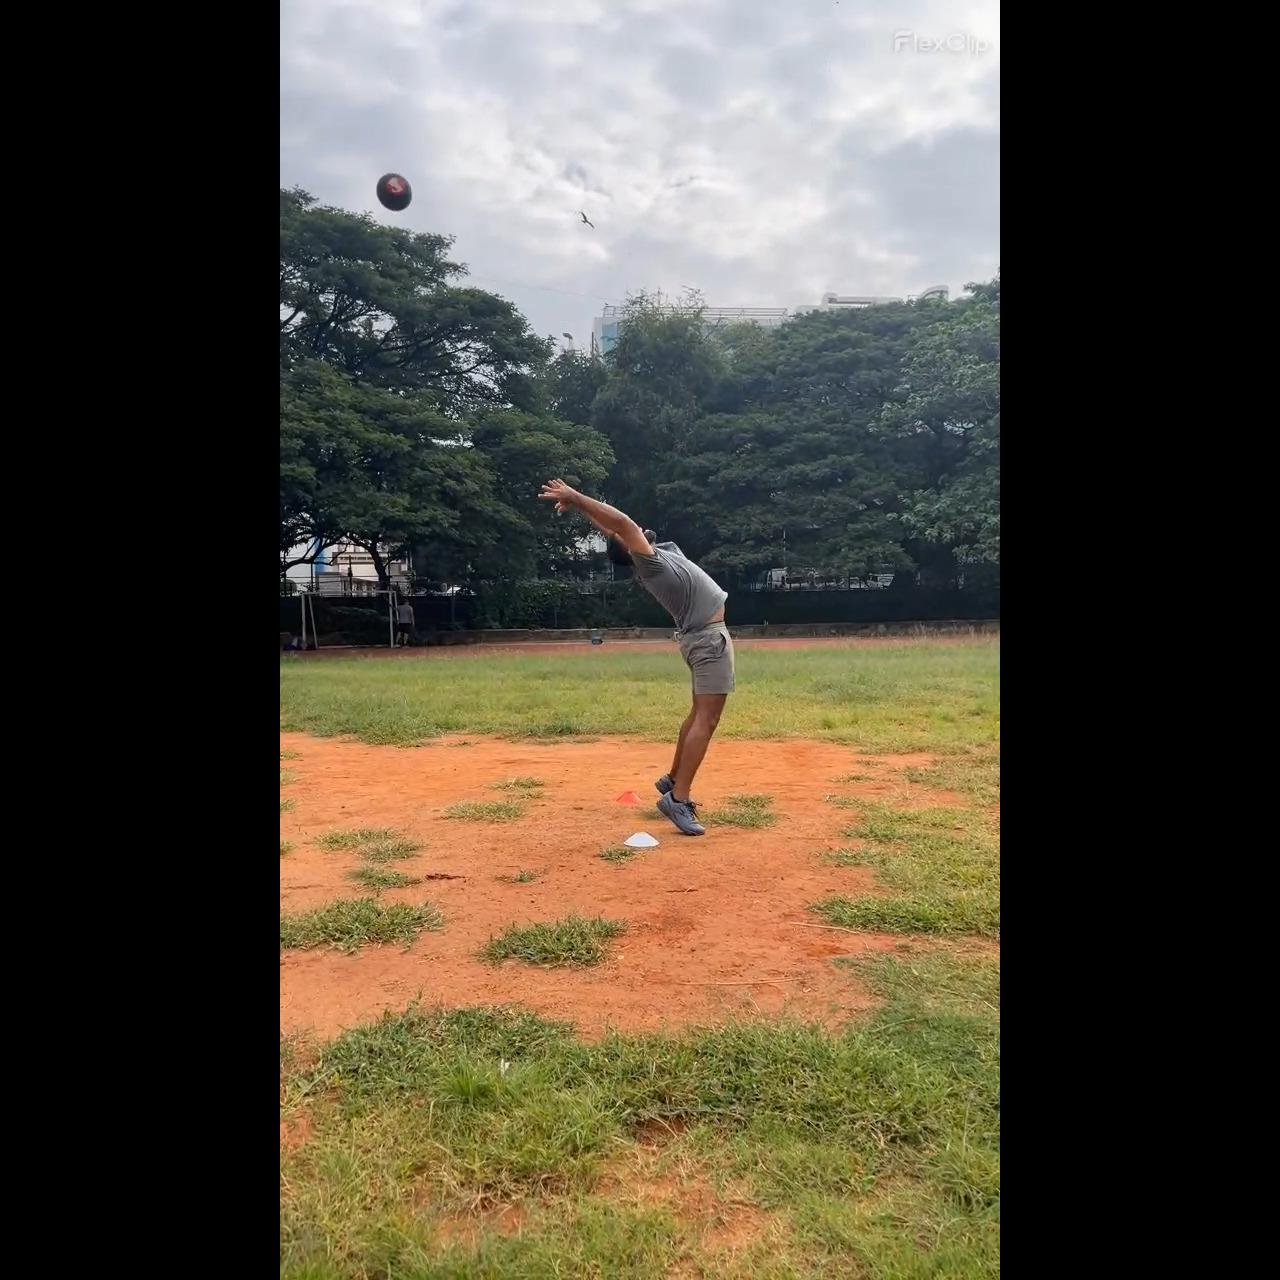Athelete: (540, 464, 734, 837)
Medicine Ball: (374, 172, 413, 211)
